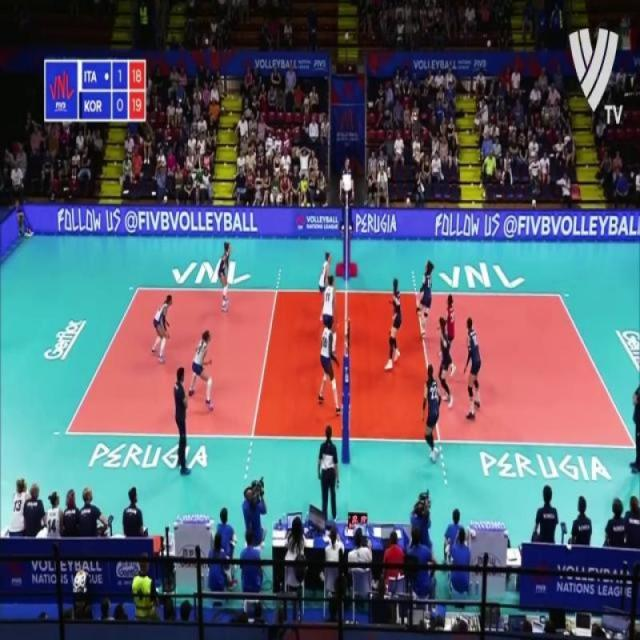volleyball: (411, 111, 418, 126)
